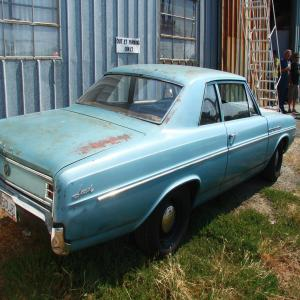Vehicle-registration-plate: (2, 192, 18, 225)
